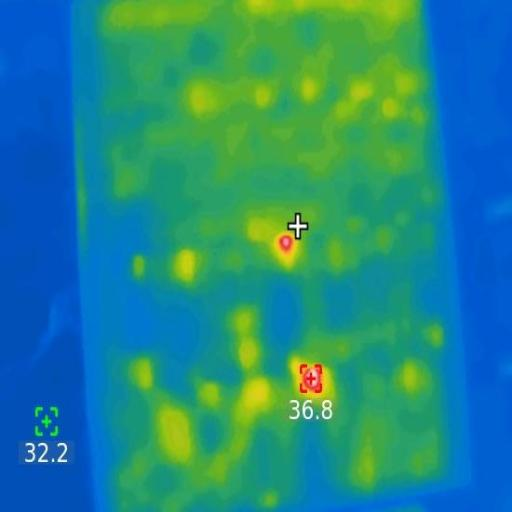hotspot: (297, 361, 325, 395), (280, 231, 294, 258)
